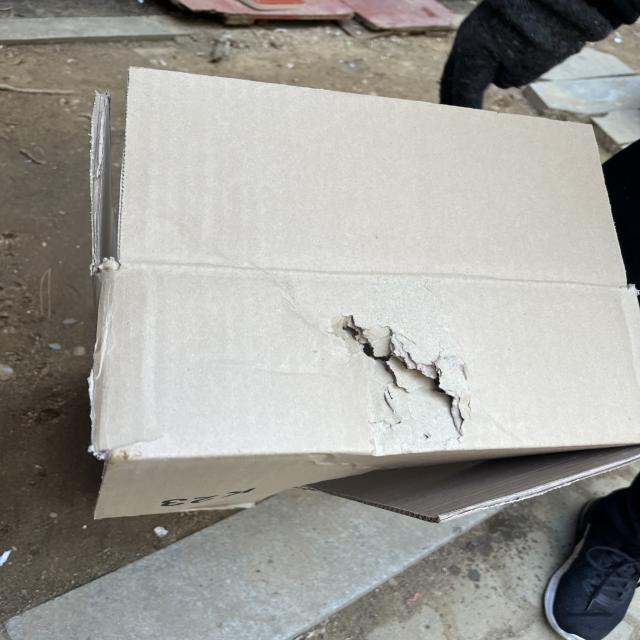damaged: (336, 312, 473, 430)
